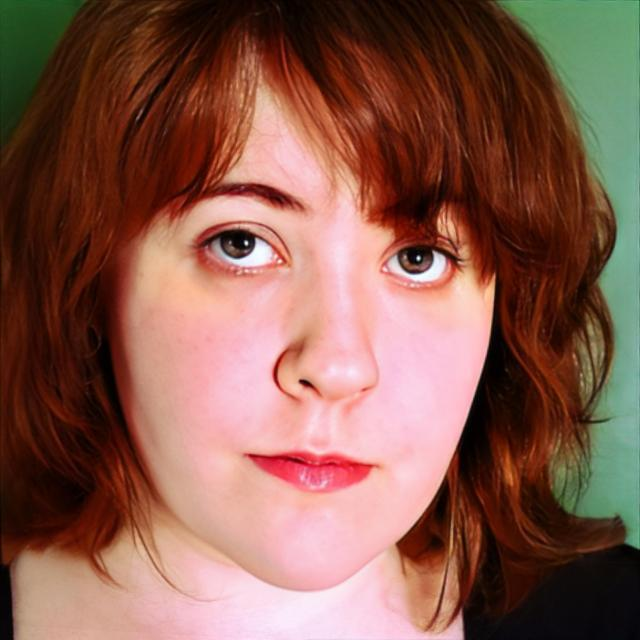content: (108, 43, 500, 592)
